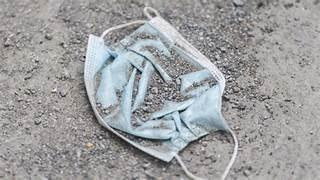Mask: (84, 7, 236, 177)
